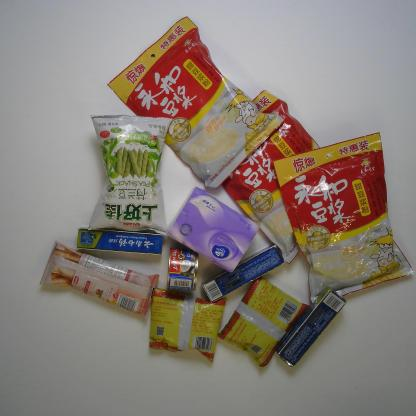Canned Food: (164, 247, 200, 298)
Dessert: (39, 241, 161, 318)
Instant Drink: (106, 18, 288, 190), (271, 131, 415, 304), (211, 89, 342, 263)
Personal Hygiene: (272, 290, 344, 368), (200, 245, 286, 301), (74, 225, 169, 256)
Puffed Food: (83, 110, 170, 240)
Seasoner: (220, 274, 308, 368), (146, 284, 225, 363)
Tissue: (164, 183, 261, 278)
